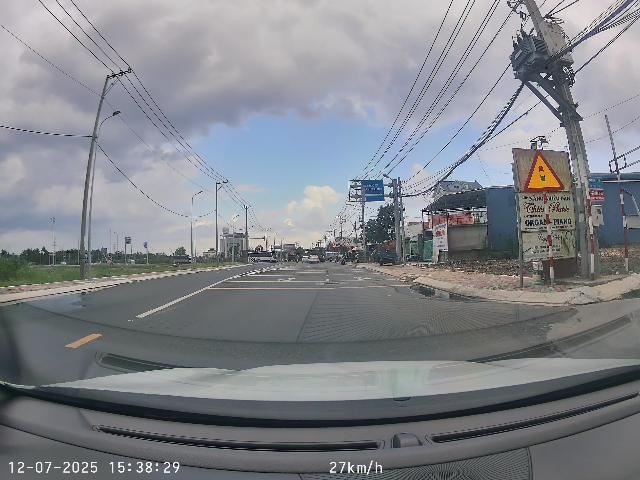209-giao-nhau-co-tin-hieu-den: (524, 150, 565, 194)
